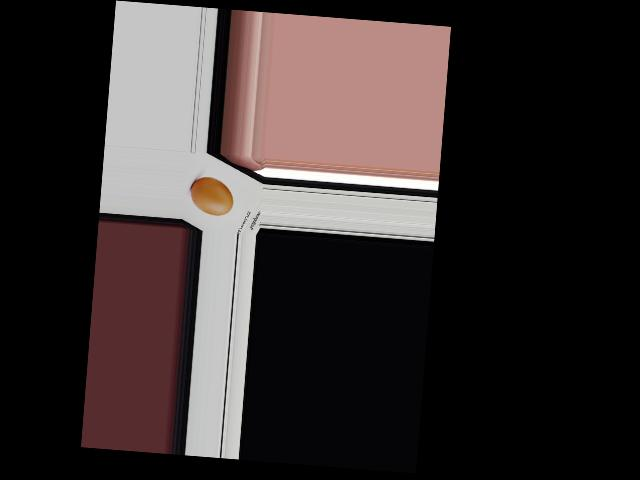egg: (188, 175, 234, 216)
